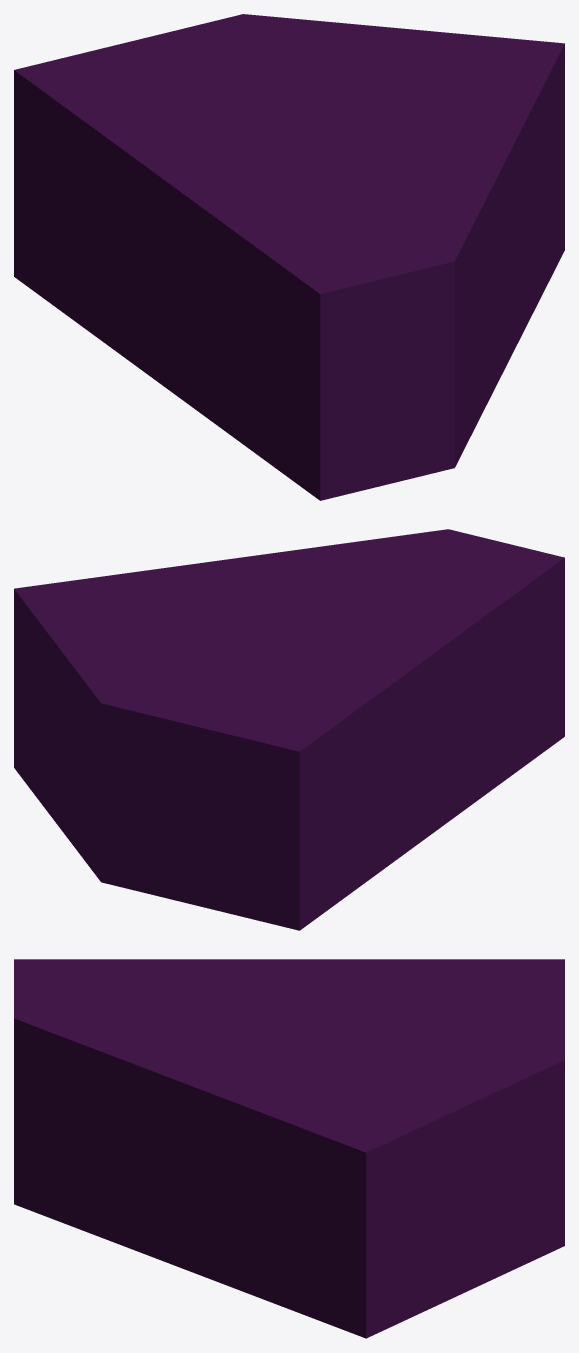
File: buho4.glb
3 views of the same model, one above another, from view 1: azimuth 30°, elevation 25°; view 2: azimuth 150°, elevation 25°; view 3: azimuth 270°, elevation 25° (orthographic). The views are drawn at different scales.
Parts seen in each view (by area): view 1: buho4; view 2: buho4; view 3: buho4.
Part boxes in pixels (x1,y1,x2,y2): buho4: [14, 14, 564, 500]; buho4: [14, 529, 564, 930]; buho4: [14, 959, 564, 1338].
Size of the model in its own units: 0.6833 by 0.3065 by 0.8229.
